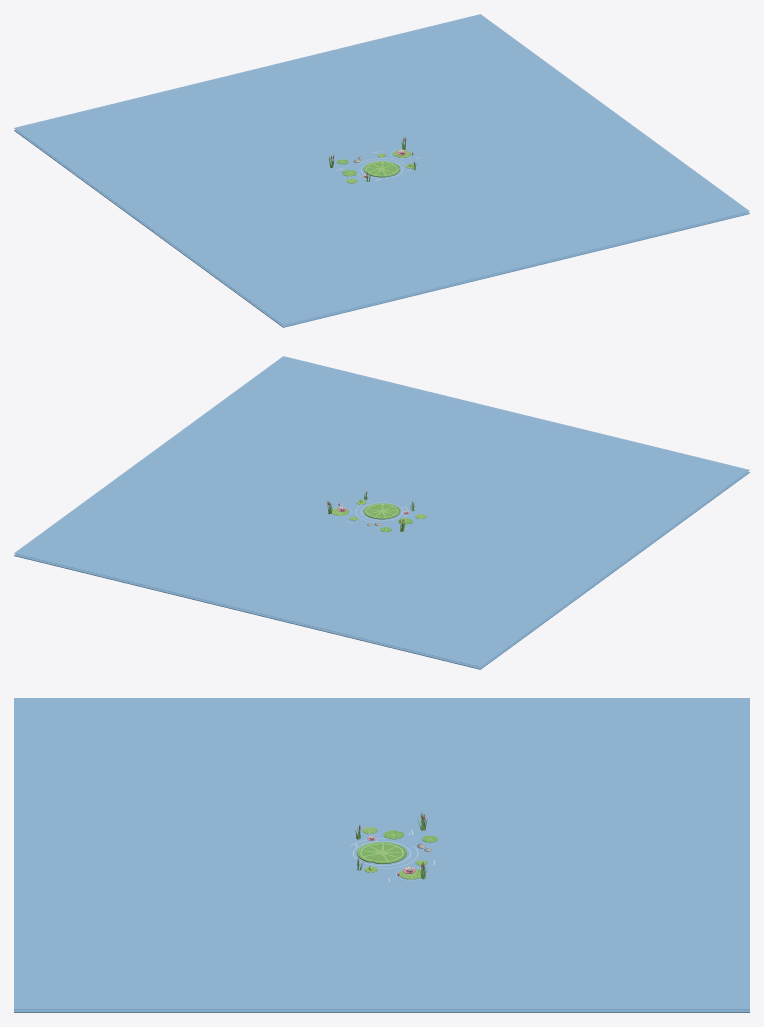
File: lily_kit.glb
3 renders of one model, top to bottom at view 1: azimuth 30°, elevation 25°; view 2: azimuth 150°, elevation 25°; view 3: azimuth 270°, elevation 25°, orthographic. The views are drawn at different scales.
Visible parts, largest first — view 1: POND_Water, POND_Bed; view 2: POND_Water, POND_Bed; view 3: POND_Water, POND_Bed, PAD_Giant.
Part boxes in pixels (left/top/right/bottom): POND_Water: left=14, top=14, right=749, bottom=325; POND_Bed: left=14, top=129, right=749, bottom=327; POND_Water: left=14, top=356, right=749, bottom=667; POND_Bed: left=14, top=471, right=749, bottom=669; POND_Water: left=14, top=698, right=749, bottom=1009; POND_Bed: left=14, top=1009, right=749, bottom=1012; PAD_Giant: left=357, top=842, right=406, bottom=863.
Size of the model in its own units: 160 by 5.14 by 160.
Materials: 2 (2 with a texture image).
